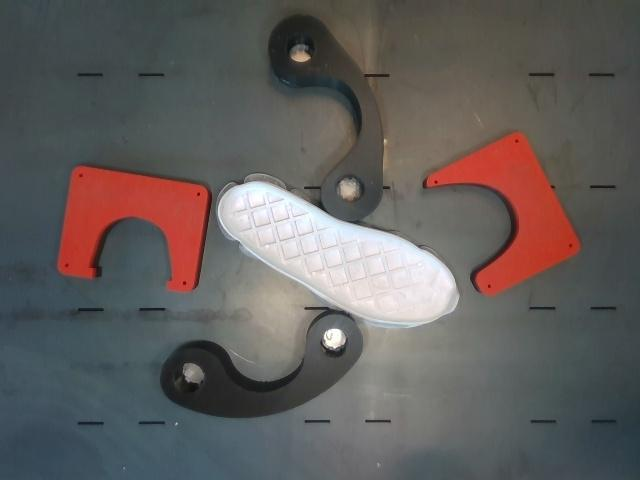shoes: (219, 182, 459, 323)
